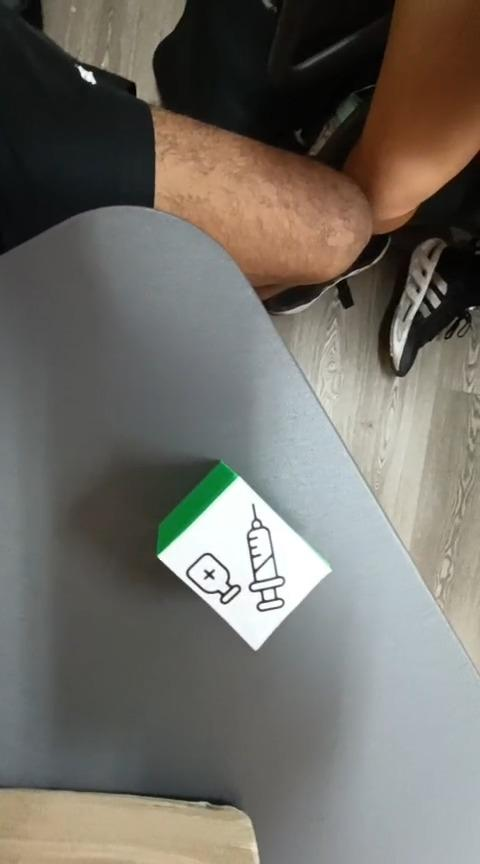antiseptic cream: (154, 458, 332, 652)
